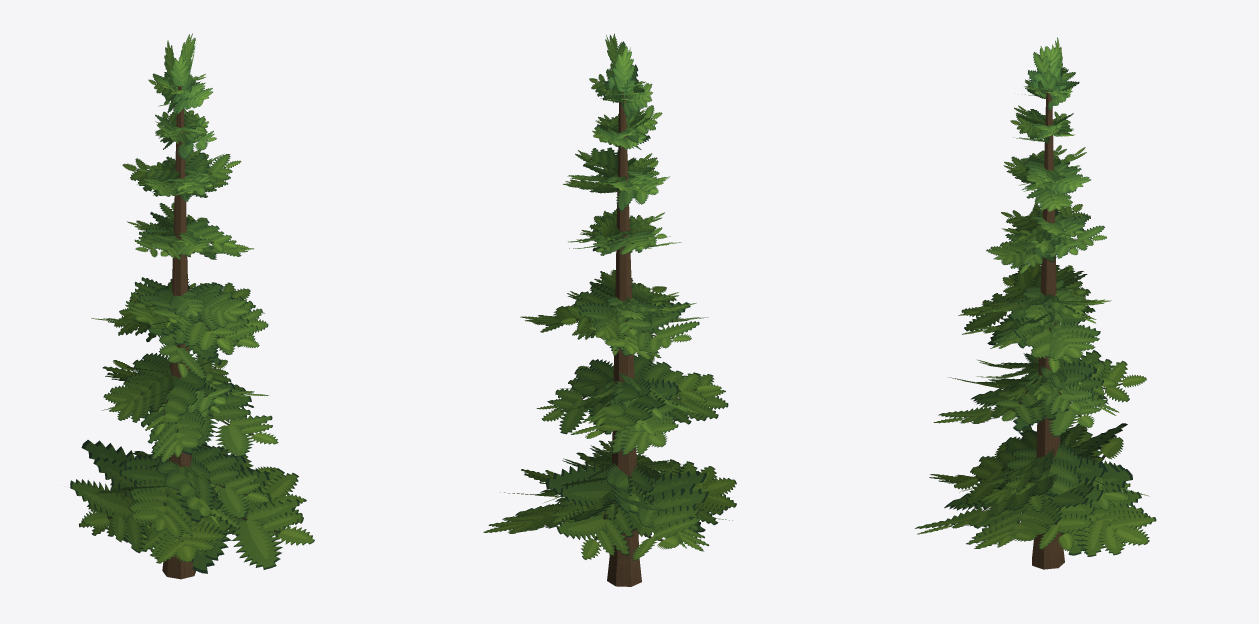
Rendered from fir4_c.glb.
The picture shows the model from 3 angles, left to right: view 1: azimuth 30°, elevation 25°; view 2: azimuth 150°, elevation 25°; view 3: azimuth 270°, elevation 25°; orthographic projection. The views are drawn at different scales.
Parts seen in each view (by area): view 1: fir4_c; view 2: fir4_c; view 3: fir4_c.
Part boxes in pixels (x1,y1,x2,y2): fir4_c: (70,33,314,579); fir4_c: (483,33,736,586); fir4_c: (915,37,1156,569).
Bounding box in the file's own units: 3.65 × 6.17 × 4.08.
2 materials, 2 textured.
